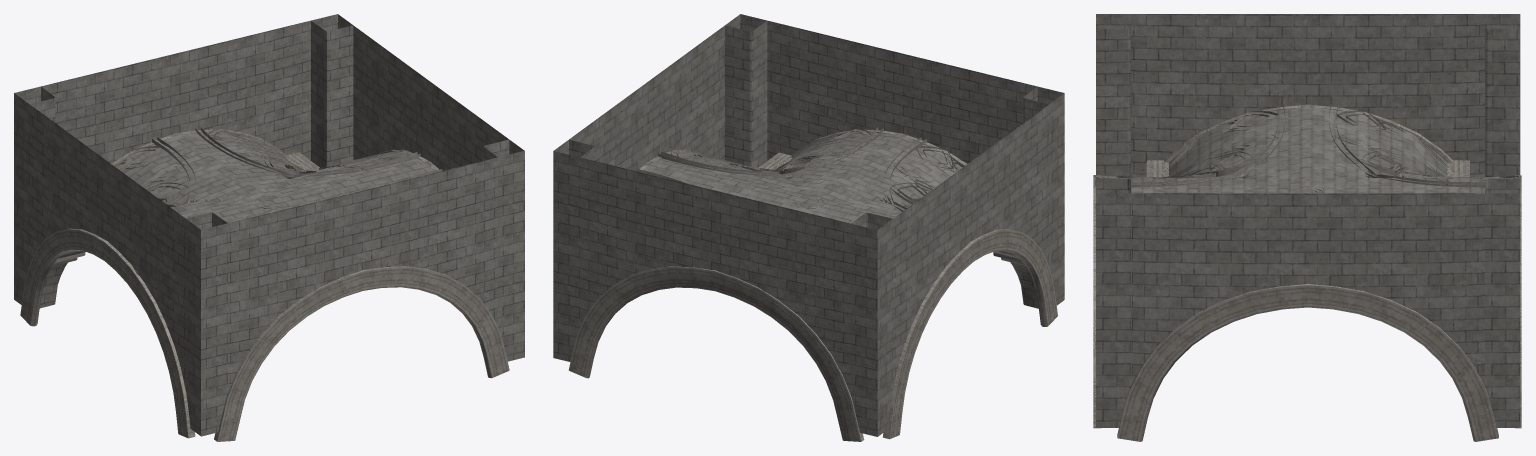
Rendered from SM_ceiling_B_01.fbx.
3 renders of one model, left to right at view 1: azimuth 30°, elevation 25°; view 2: azimuth 150°, elevation 25°; view 3: azimuth 270°, elevation 25°, orthographic. The views are drawn at different scales.
Parts seen in each view (by area): view 1: SM_ceiling_B_01_LOD0; view 2: SM_ceiling_B_01_LOD0; view 3: SM_ceiling_B_01_LOD0.
Part boxes in pixels (<box>): SM_ceiling_B_01_LOD0: <box>14,14,524,441</box>; SM_ceiling_B_01_LOD0: <box>553,14,1064,441</box>; SM_ceiling_B_01_LOD0: <box>1093,14,1521,441</box>.
Bounding box in the file's own units: 1015 × 1010 × 645.
